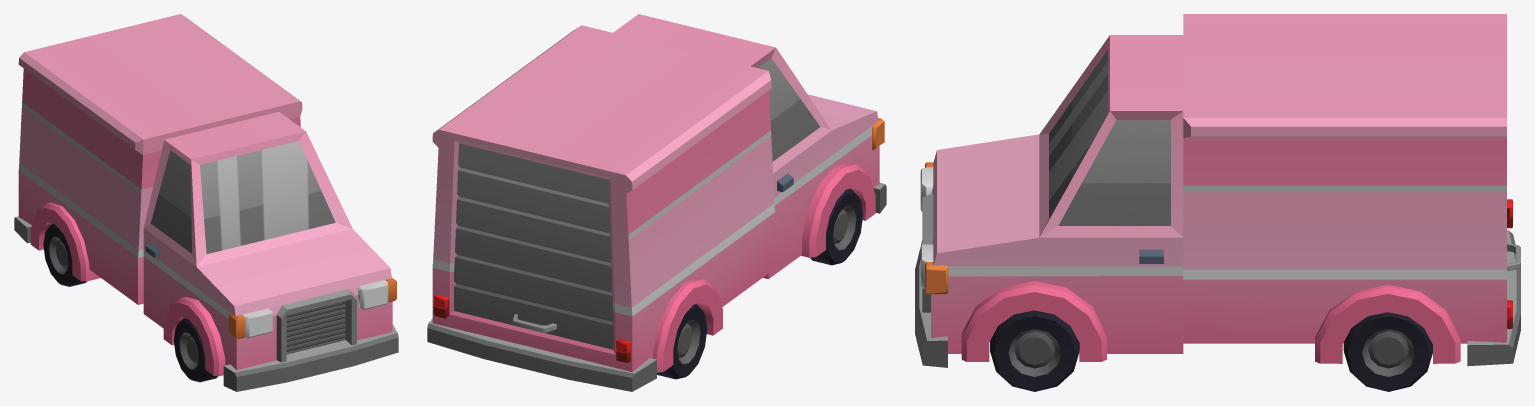
Rendered from PostCar_6.fbx.
3 renders of one model, left to right at view 1: azimuth 30°, elevation 25°; view 2: azimuth 150°, elevation 25°; view 3: azimuth 270°, elevation 25°, orthographic. The views are drawn at different scales.
Parts seen in each view (by area): view 1: PostCar_6, Wheel_FR, Wheel_BR; view 2: PostCar_6, Wheel_FR, Wheel_BR; view 3: PostCar_6, Wheel_FL, Wheel_BL.
Part boxes in pixels (x1,y1,x2,y2): PostCar_6: (14, 14, 398, 391); Wheel_FR: (173, 318, 217, 382); Wheel_BR: (43, 224, 86, 286); PostCar_6: (427, 14, 886, 391); Wheel_FR: (810, 188, 863, 265); Wheel_BR: (657, 304, 707, 379); PostCar_6: (915, 14, 1520, 367); Wheel_FL: (990, 310, 1079, 391); Wheel_BL: (1343, 312, 1432, 391).
Size of the model in its own units: 118 by 124 by 251.
